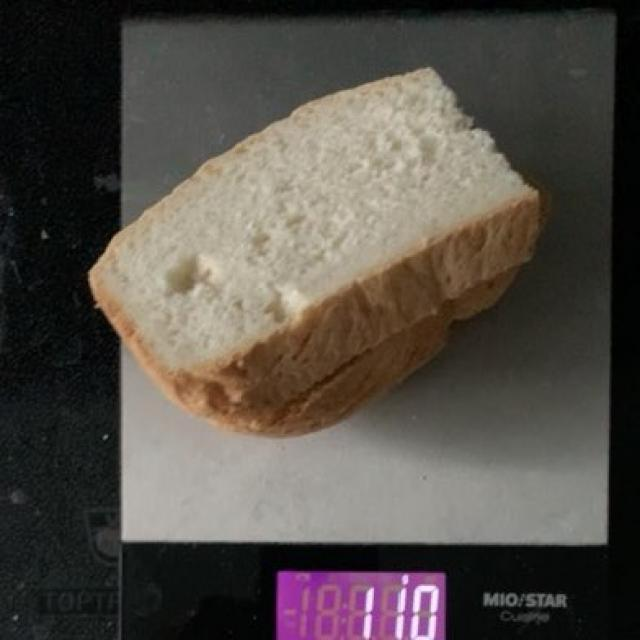bread: (96, 78, 543, 433)
